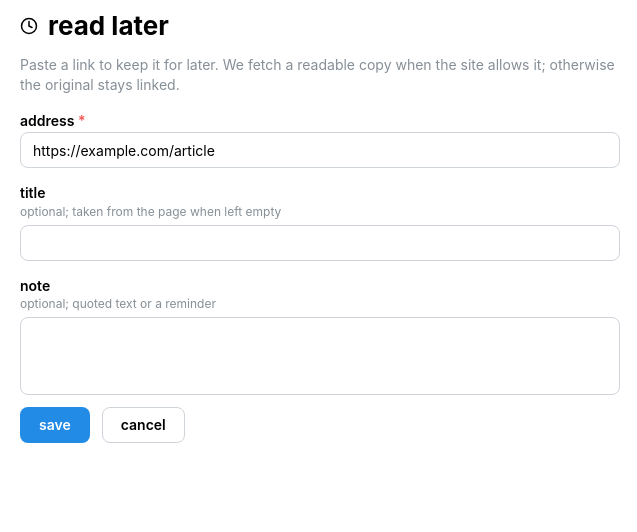
Test case: SaveArticleForm › explains a rejected address instead of failing silently
Click the button "save" at (55, 425), box left=20, top=407, right=90, bottom=443
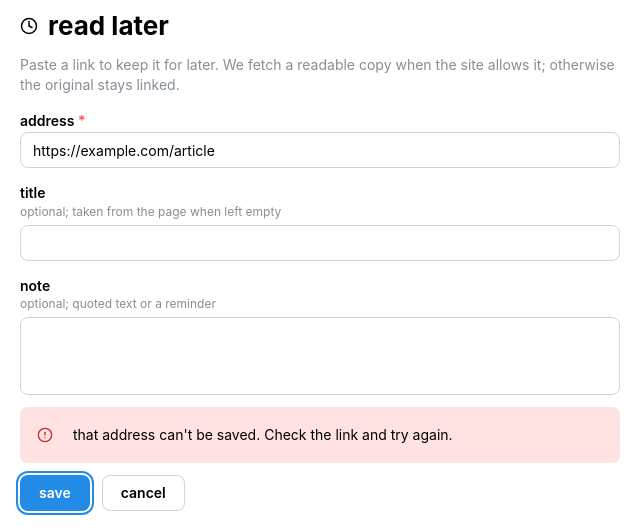
Expected: the text "that address can't be saved. Check the link and try again." is shown, left=73, top=426, right=453, bottom=443
